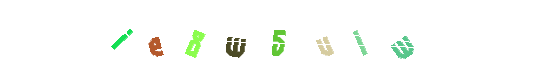5: (230, 0, 310, 80)
8: (162, 0, 242, 80)
E: (129, 0, 209, 80)
I: (81, 0, 161, 80)
L: (271, 0, 351, 80)
U: (238, 0, 318, 80)
W: (195, 0, 275, 80), (331, 0, 411, 80)
